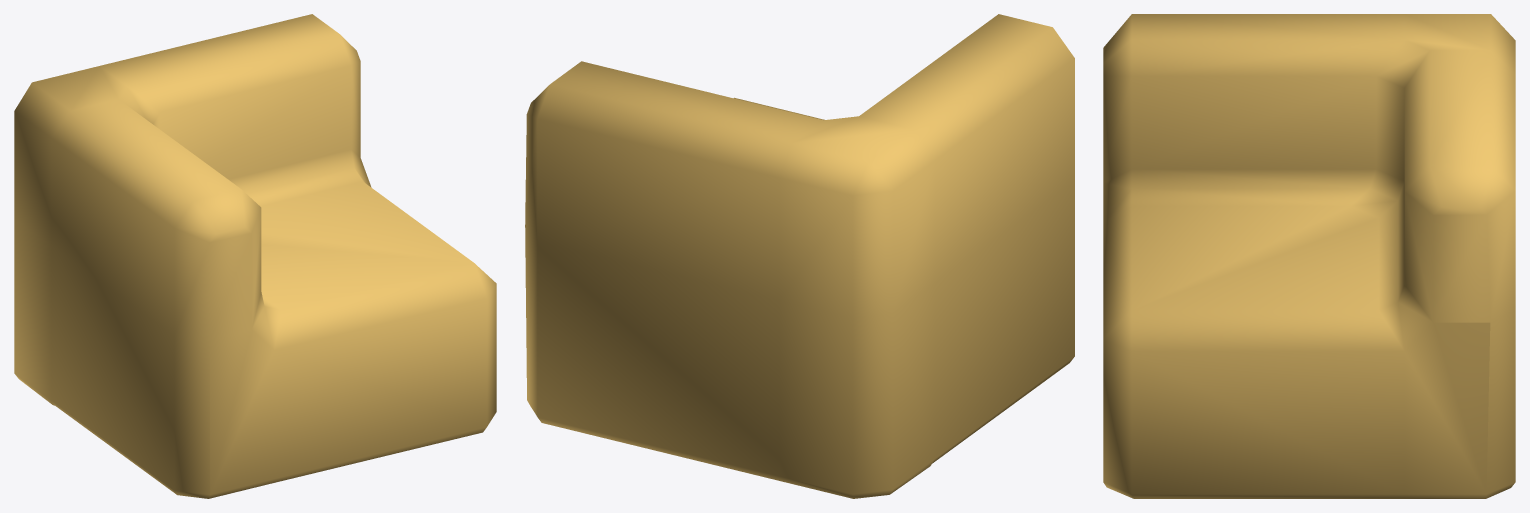
Rendered from sofa2.FBX.
The picture shows the model from 3 angles, left to right: view 1: azimuth 30°, elevation 25°; view 2: azimuth 150°, elevation 25°; view 3: azimuth 270°, elevation 25°; orthographic projection. The views are drawn at different scales.
Visible parts, largest first — view 1: sofa2; view 2: sofa2; view 3: sofa2.
Part boxes in pixels (left/top/right/bottom): sofa2: left=14, top=14, right=496, bottom=498; sofa2: left=525, top=14, right=1074, bottom=498; sofa2: left=1103, top=14, right=1515, bottom=498.
Size of the model in its own units: 100 by 86.4 by 100.
1 material, 1 textured.
